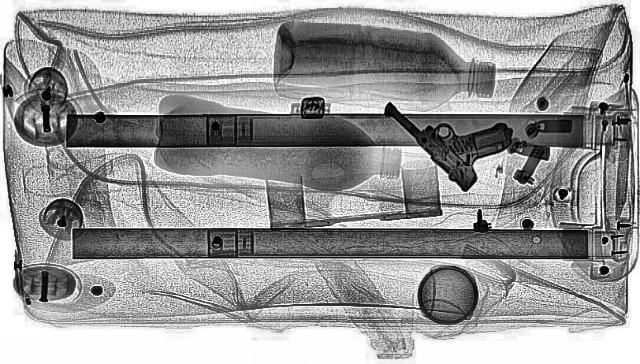Gun: (359, 79, 551, 191)
